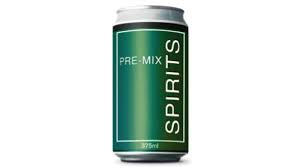can: (107, 2, 195, 168)
